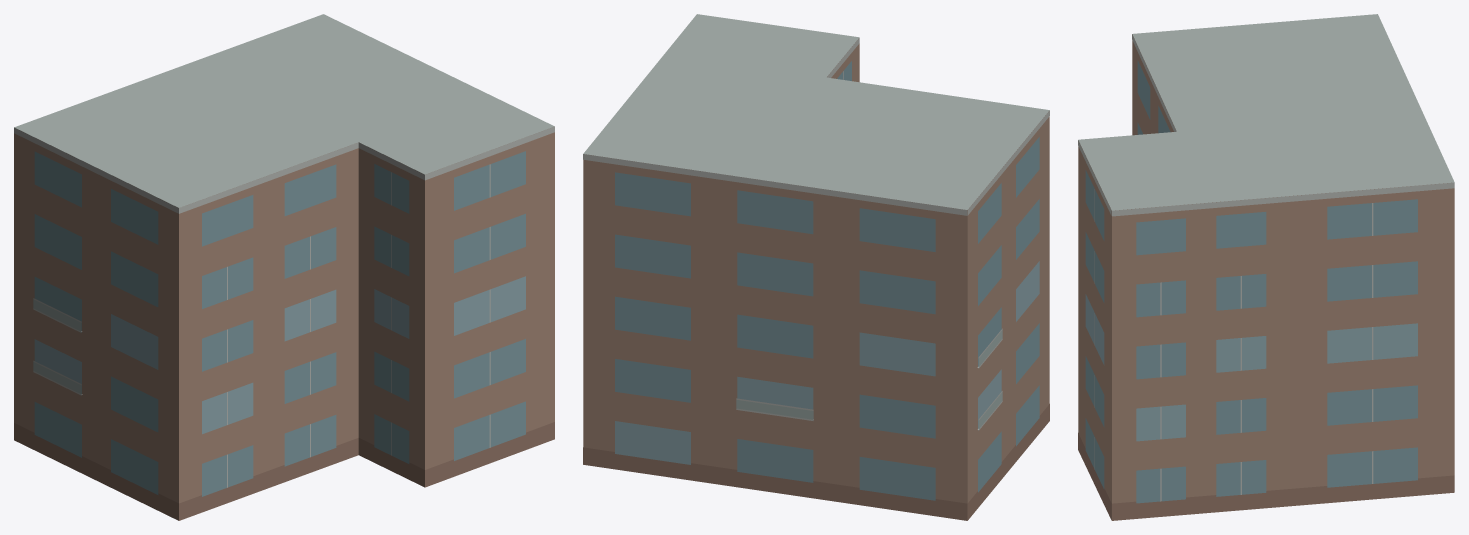
File: survey-upis-32506821.glb
3 renders of one model, left to right at view 1: azimuth 30°, elevation 25°; view 2: azimuth 150°, elevation 25°; view 3: azimuth 270°, elevation 25°, orthographic.
Parts seen in each view (by area): view 1: survey-upis-32506821.tmp; view 2: survey-upis-32506821.tmp; view 3: survey-upis-32506821.tmp.
Part boxes in pixels (bbox=[...]): survey-upis-32506821.tmp: bbox=[14, 14, 554, 520]; survey-upis-32506821.tmp: bbox=[583, 14, 1049, 520]; survey-upis-32506821.tmp: bbox=[1078, 14, 1454, 520].
Bounding box in the file's own units: 17.76 × 13.05 × 14.37.
